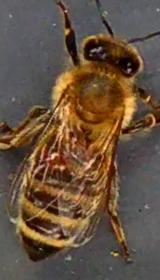varroa_mite: (40, 144, 68, 172)
